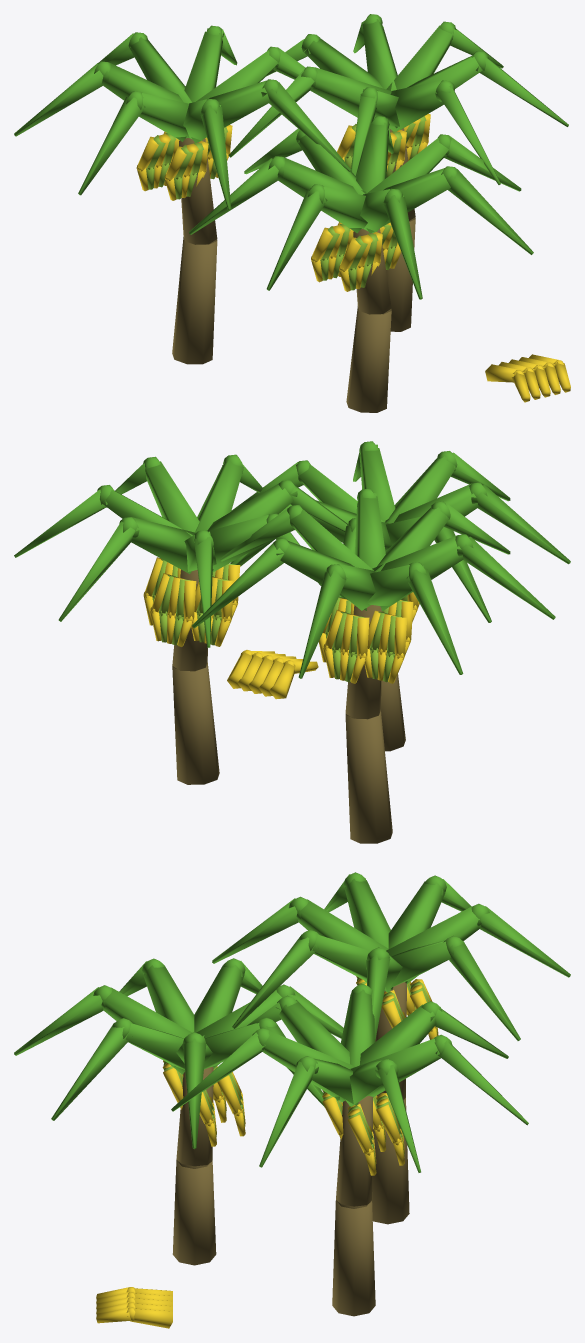
Rendered from resource_bananas.fbx.
3 renders of one model, top to bottom at view 1: azimuth 30°, elevation 25°; view 2: azimuth 150°, elevation 25°; view 3: azimuth 270°, elevation 25°, orthographic. The views are drawn at different scales.
Visible parts, largest first — view 1: resource_bananas_bleaf_01, resource_bananas_wood#7a6a3a_00, resource_bananas_banana_02, resource_bananas_bgreen_03; view 2: resource_bananas_bleaf_01, resource_bananas_wood#7a6a3a_00, resource_bananas_banana_02, resource_bananas_bgreen_03; view 3: resource_bananas_bleaf_01, resource_bananas_wood#7a6a3a_00, resource_bananas_banana_02, resource_bananas_bgreen_03.
Boxes of the visible parts, bbox=[...] form: resource_bananas_bleaf_01: bbox=[14, 14, 568, 299]; resource_bananas_wood#7a6a3a_00: bbox=[172, 128, 415, 412]; resource_bananas_banana_02: bbox=[136, 113, 570, 402]; resource_bananas_bgreen_03: bbox=[146, 116, 426, 290]; resource_bananas_bleaf_01: bbox=[14, 441, 570, 678]; resource_bananas_wood#7a6a3a_00: bbox=[172, 569, 405, 843]; resource_bananas_banana_02: bbox=[143, 557, 419, 699]; resource_bananas_bgreen_03: bbox=[152, 559, 408, 682]; resource_bananas_bleaf_01: bbox=[14, 872, 570, 1172]; resource_bananas_wood#7a6a3a_00: bbox=[172, 982, 409, 1316]; resource_bananas_banana_02: bbox=[96, 976, 438, 1328]; resource_bananas_bgreen_03: bbox=[163, 977, 437, 1166].
Bounding box in the file's own units: 116 × 69.85 × 115.
